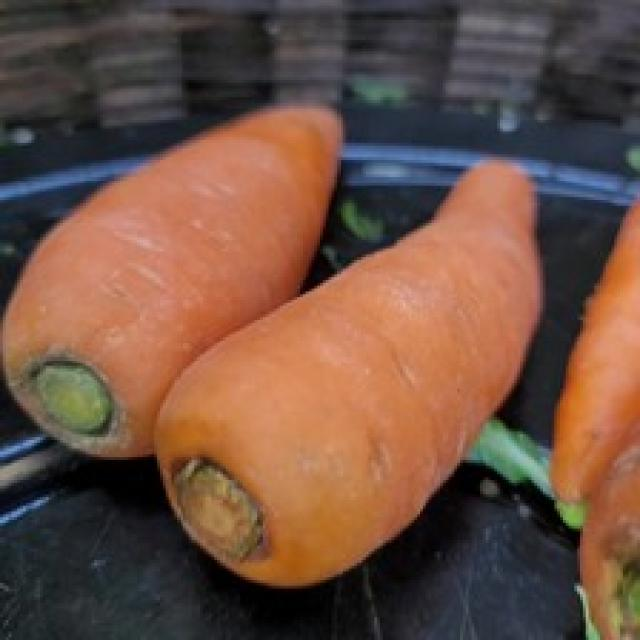carrot: (156, 159, 547, 591), (1, 77, 347, 462)
